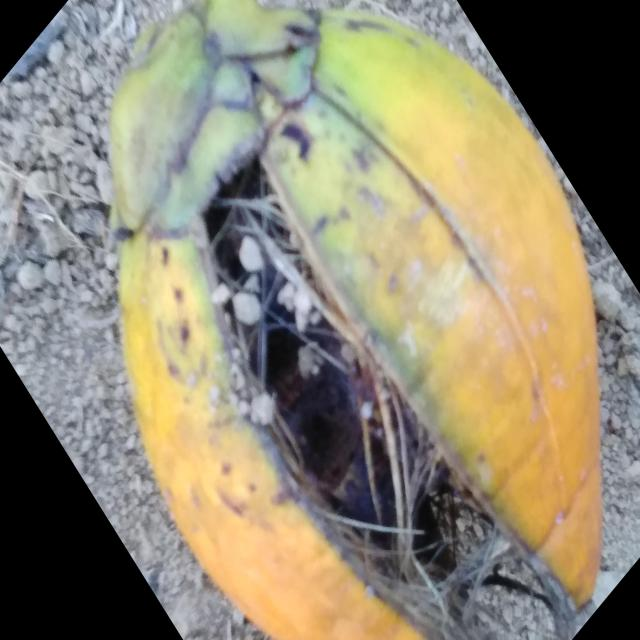damaged: (109, 0, 604, 640)
